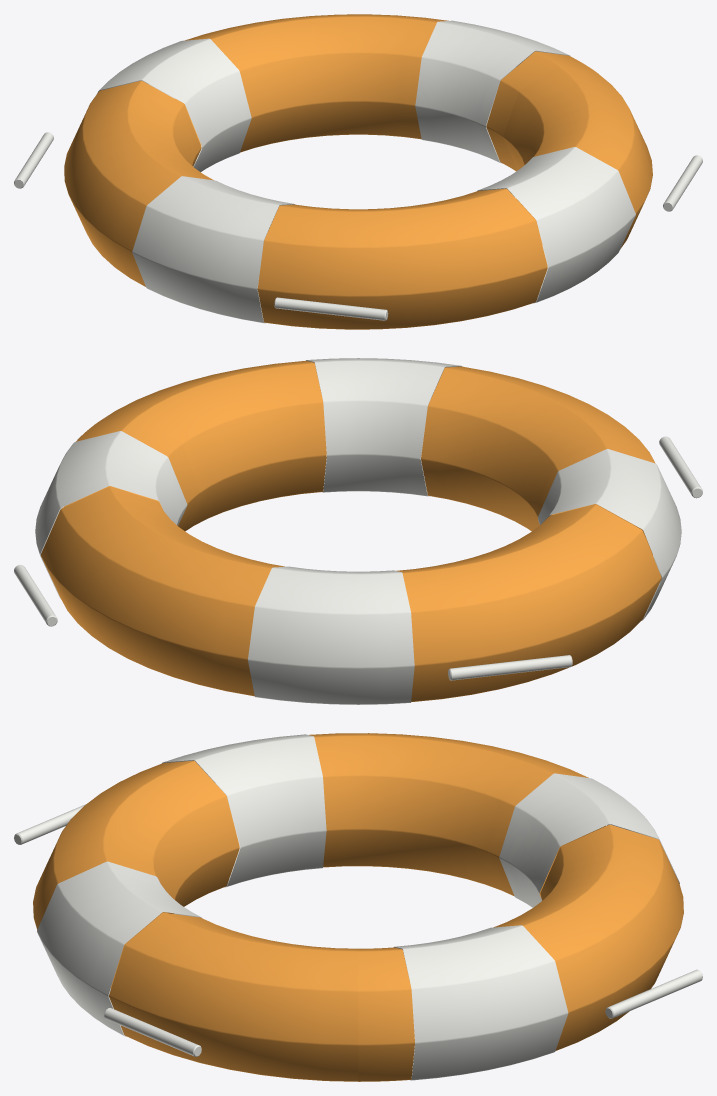
File: LV_lifebuoy.fbx
The picture shows the model from 3 angles, top to bottom: view 1: azimuth 30°, elevation 25°; view 2: azimuth 150°, elevation 25°; view 3: azimuth 270°, elevation 25°; orthographic projection. The views are drawn at different scales.
Visible parts, largest first — view 1: LV_lifebuoy; view 2: LV_lifebuoy; view 3: LV_lifebuoy.
Boxes of the visible parts, x1=… form: LV_lifebuoy: x1=14, y1=14, x2=702, y2=329; LV_lifebuoy: x1=14, y1=358, x2=702, y2=704; LV_lifebuoy: x1=14, y1=733, x2=702, y2=1081.
Size of the model in its own units: 0.9722 by 0.2009 by 0.9722.
